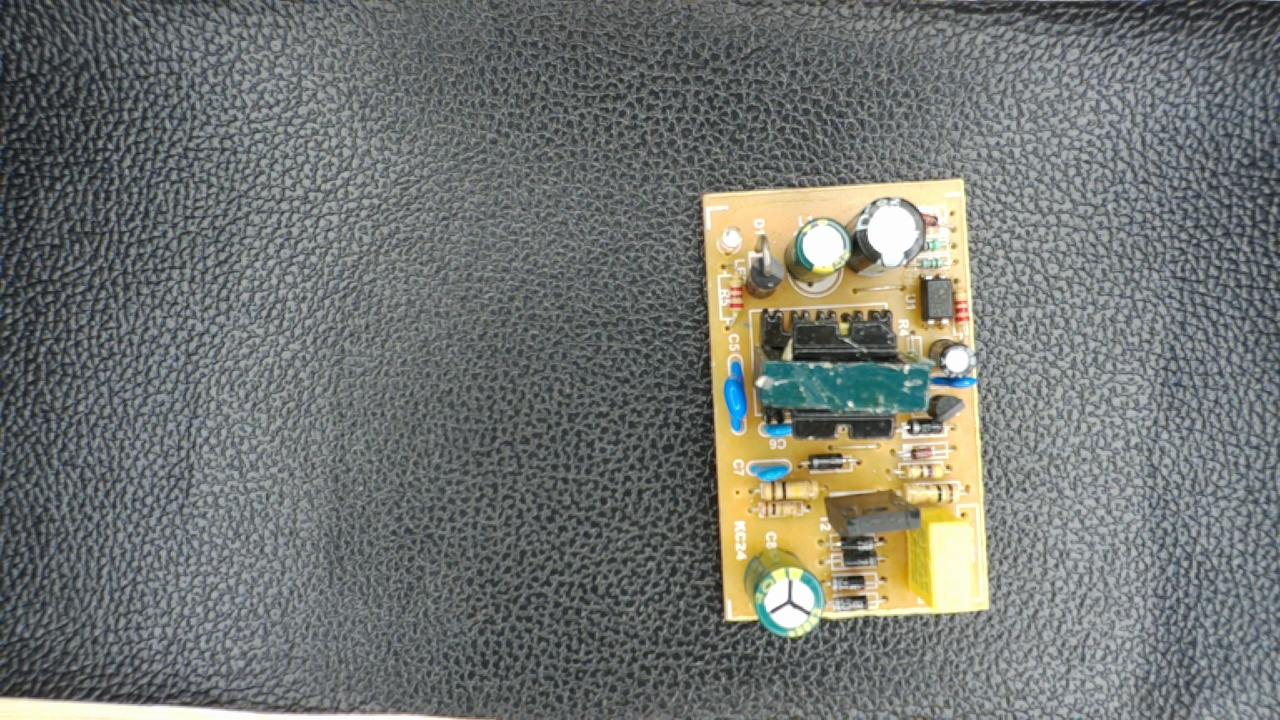hv_capacitor: (743, 552, 824, 636)
mov: (720, 356, 755, 437)
optocoupler: (915, 270, 959, 330)
